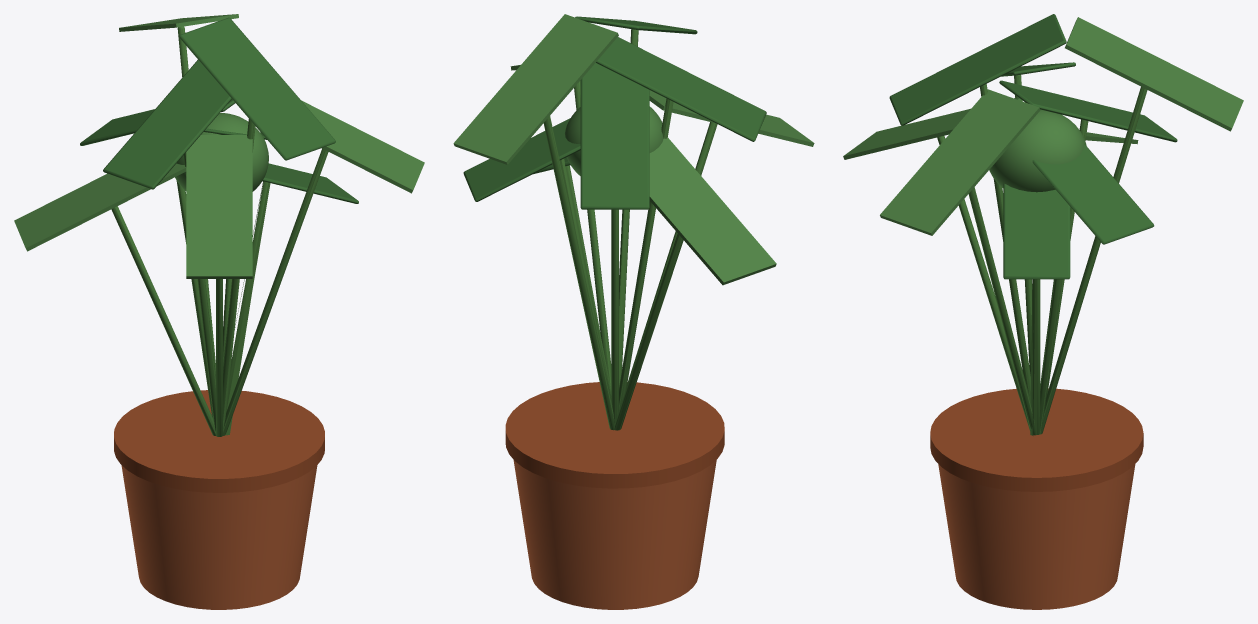
Rendered from ChauCayKieng_LaTo.glb.
The picture shows the model from 3 angles, left to right: view 1: azimuth 30°, elevation 25°; view 2: azimuth 150°, elevation 25°; view 3: azimuth 270°, elevation 25°; orthographic projection. The views are drawn at different scales.
Parts seen in each view (by area): view 1: ChauCayKieng_LaTo, ChauCayKieng_LaTo_5, ChauCayKieng_LaTo_4, ChauCayKieng_LaTo_1, ChauCayKieng_LaTo_3; view 2: ChauCayKieng_LaTo, ChauCayKieng_LaTo_5, ChauCayKieng_LaTo_4, ChauCayKieng_LaTo_1, ChauCayKieng_LaTo_3; view 3: ChauCayKieng_LaTo_5, ChauCayKieng_LaTo_4, ChauCayKieng_LaTo, ChauCayKieng_LaTo_1, ChauCayKieng_LaTo_3.
Boxes of the visible parts, bbox=[...] form: ChauCayKieng_LaTo: bbox=[121, 465, 317, 609]; ChauCayKieng_LaTo_5: bbox=[14, 14, 424, 278]; ChauCayKieng_LaTo_4: bbox=[80, 17, 358, 203]; ChauCayKieng_LaTo_1: bbox=[114, 390, 324, 492]; ChauCayKieng_LaTo_3: bbox=[111, 26, 328, 436]; ChauCayKieng_LaTo: bbox=[513, 460, 716, 609]; ChauCayKieng_LaTo_5: bbox=[453, 14, 814, 285]; ChauCayKieng_LaTo_4: bbox=[463, 16, 766, 209]; ChauCayKieng_LaTo_1: bbox=[505, 382, 724, 488]; ChauCayKieng_LaTo_3: bbox=[543, 29, 717, 430]; ChauCayKieng_LaTo_5: bbox=[843, 17, 1243, 235]; ChauCayKieng_LaTo_4: bbox=[889, 14, 1177, 279]; ChauCayKieng_LaTo: bbox=[938, 464, 1135, 609]; ChauCayKieng_LaTo_1: bbox=[930, 388, 1143, 491]; ChauCayKieng_LaTo_3: bbox=[937, 74, 1147, 435].
Size of the model in its own units: 0.7392 by 1.17 by 0.7764.
